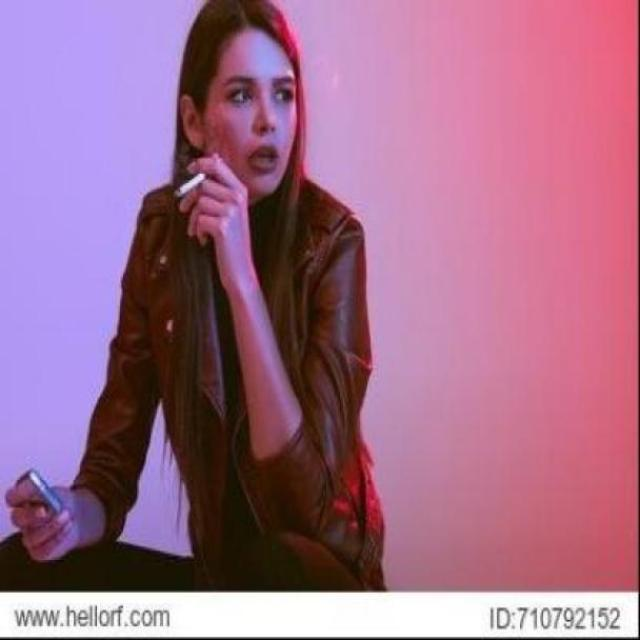rokok: (172, 169, 210, 199)
